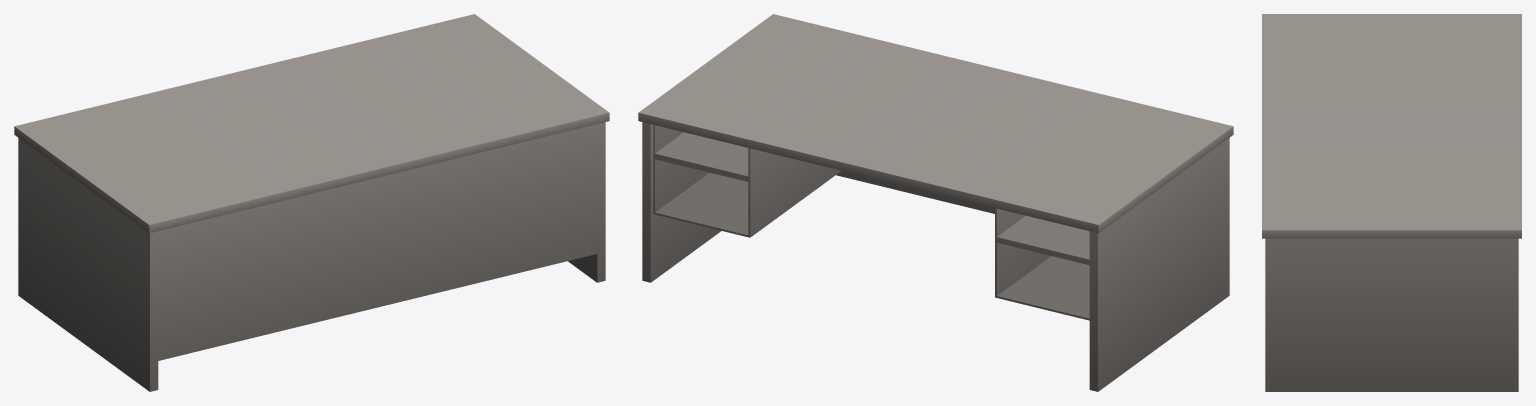
The model's file is Table_OfficeDesk3_Open.fbx.
3 views of the same model, side by side, from view 1: azimuth 30°, elevation 25°; view 2: azimuth 150°, elevation 25°; view 3: azimuth 270°, elevation 25° (orthographic). The views are drawn at different scales.
Visible parts, largest first — view 1: Table_OfficeDesk3_Open; view 2: Table_OfficeDesk3_Open; view 3: Table_OfficeDesk3_Open.
Boxes of the visible parts, left/top/right/bottom form: Table_OfficeDesk3_Open: left=14, top=14, right=609, bottom=391; Table_OfficeDesk3_Open: left=638, top=14, right=1233, bottom=391; Table_OfficeDesk3_Open: left=1262, top=14, right=1521, bottom=391.
Bounding box in the file's own units: 210 × 73.44 × 106.
